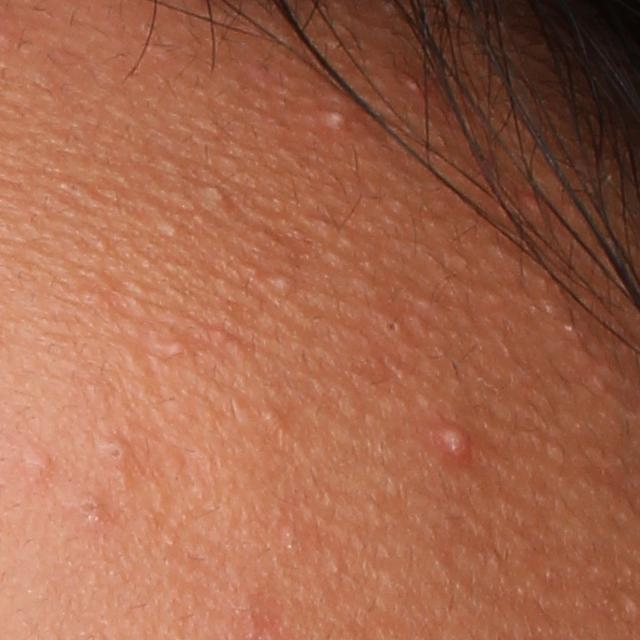comedo: (196, 181, 232, 216), (23, 445, 53, 485), (73, 491, 99, 522), (258, 402, 289, 427), (99, 440, 131, 464), (322, 110, 354, 126), (271, 273, 293, 295), (381, 317, 402, 339), (165, 339, 186, 355), (163, 220, 182, 237)
